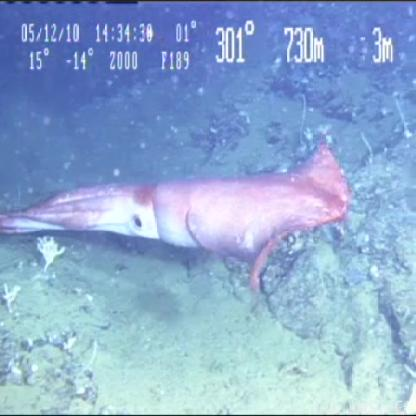Bio: (1, 134, 353, 300), (33, 232, 68, 276)
